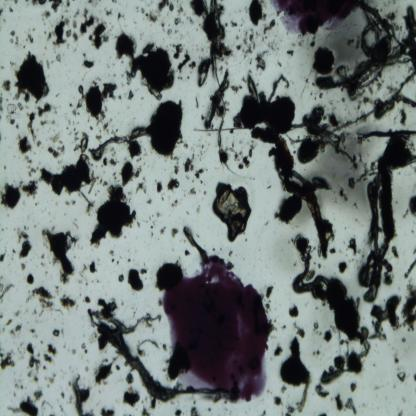Background material: (288, 258, 370, 352), (295, 106, 362, 176), (113, 32, 177, 98), (235, 71, 297, 135), (88, 186, 138, 248), (190, 0, 233, 58), (148, 100, 187, 158), (36, 154, 91, 194), (282, 339, 311, 412), (212, 54, 228, 170), (73, 83, 117, 125), (42, 230, 78, 281), (15, 48, 49, 102), (320, 349, 363, 386), (370, 295, 402, 344), (381, 133, 416, 170), (183, 228, 212, 266), (400, 281, 416, 335), (73, 374, 93, 416), (312, 46, 338, 75), (233, 27, 257, 58), (27, 286, 55, 312), (94, 358, 119, 386), (174, 45, 197, 72), (229, 146, 254, 170), (0, 181, 20, 210), (7, 398, 39, 416), (119, 161, 143, 183), (15, 229, 33, 258), (89, 22, 109, 47), (248, 0, 266, 26), (79, 7, 95, 36), (27, 340, 41, 372), (197, 57, 211, 88), (335, 396, 358, 414), (74, 129, 90, 154), (122, 388, 141, 409), (128, 268, 144, 292), (52, 20, 67, 45), (0, 279, 13, 306), (22, 179, 38, 200), (26, 112, 36, 145), (17, 133, 31, 156), (340, 190, 356, 209), (146, 209, 158, 234), (42, 343, 56, 364), (0, 351, 16, 369), (140, 7, 158, 23), (256, 50, 268, 71), (404, 257, 416, 278), (127, 141, 141, 159), (398, 109, 411, 128), (59, 298, 77, 311), (5, 102, 15, 125), (183, 155, 195, 174), (348, 236, 358, 258), (314, 384, 329, 398), (263, 18, 276, 34), (408, 192, 416, 217), (37, 102, 51, 116), (166, 177, 179, 192), (135, 180, 148, 195), (293, 322, 305, 338), (158, 0, 174, 12), (345, 174, 357, 190), (328, 111, 339, 128), (81, 57, 95, 70), (288, 303, 300, 318), (266, 320, 276, 337), (324, 328, 334, 345), (47, 146, 60, 159), (337, 260, 348, 274), (100, 406, 115, 416), (395, 371, 407, 383), (10, 31, 20, 45), (1, 78, 11, 92), (228, 17, 240, 28), (50, 1, 62, 12), (10, 325, 22, 336), (146, 195, 156, 208), (273, 343, 283, 356), (26, 324, 36, 337), (62, 198, 78, 206), (392, 244, 400, 260), (155, 180, 164, 194), (194, 168, 205, 179), (1, 318, 16, 326), (34, 390, 44, 402), (56, 144, 66, 156), (273, 394, 281, 408), (50, 132, 61, 142), (265, 286, 274, 298), (27, 273, 35, 286), (89, 260, 97, 273), (126, 371, 134, 384), (169, 198, 179, 208), (170, 228, 180, 238), (32, 0, 48, 6), (174, 16, 182, 28), (393, 351, 400, 364), (41, 9, 51, 18), (103, 7, 113, 16), (27, 167, 37, 176), (39, 118, 48, 128), (19, 261, 27, 272), (159, 224, 166, 236), (81, 342, 88, 354), (349, 383, 358, 392), (286, 49, 296, 57), (302, 78, 312, 86), (52, 328, 60, 338), (25, 155, 33, 165), (126, 90, 134, 100), (55, 52, 62, 63), (189, 187, 197, 196), (195, 92, 199, 110), (72, 32, 79, 42), (63, 4, 70, 14), (0, 4, 5, 18), (52, 105, 58, 116), (17, 101, 23, 112), (28, 34, 34, 45), (184, 248, 191, 257), (65, 29, 72, 38), (0, 252, 6, 262), (84, 294, 90, 304), (329, 247, 337, 254), (118, 274, 124, 283), (0, 97, 3, 111), (36, 141, 42, 148), (47, 32, 51, 41), (12, 0, 19, 5), (10, 5, 13, 13)
Cellulose filter fibre: (112, 336, 213, 402), (319, 73, 416, 139), (277, 168, 331, 258), (364, 159, 396, 303), (357, 2, 411, 68), (90, 124, 152, 159), (90, 309, 160, 336)
Fragment: (212, 184, 250, 242)
Pen: (158, 260, 267, 401), (269, 0, 362, 39)
